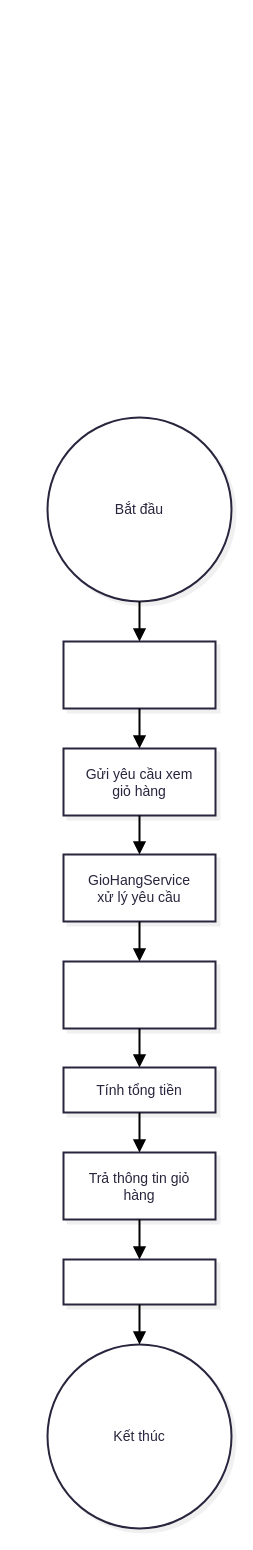
This 253x1550 diagram has some shape labels left out. The shapes that lost their labels are listed below. From the top down, each one's centre as x and y in pixels, then its label:
the point at 141,676: Khách hàng chọn xem giỏ hàng
the point at 141,996: Lấy thông tin giỏ hàng
the point at 141,1283: Hiển thị giỏ hàng
